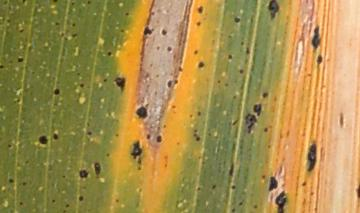tarspot: (305, 142, 318, 173), (309, 24, 322, 52), (274, 190, 289, 213), (243, 112, 258, 134), (134, 101, 150, 121), (130, 138, 144, 160), (266, 1, 280, 21), (113, 75, 127, 94), (92, 160, 103, 181), (267, 175, 279, 192), (252, 101, 263, 118), (337, 109, 345, 131), (142, 25, 155, 38), (37, 133, 49, 146), (78, 169, 89, 180), (196, 59, 206, 71), (228, 161, 235, 178), (315, 53, 323, 66), (52, 86, 61, 97), (159, 27, 168, 38), (195, 4, 204, 15), (260, 90, 270, 99), (232, 16, 241, 25), (77, 194, 86, 203), (355, 182, 360, 198), (155, 134, 163, 144), (51, 131, 59, 141), (176, 64, 184, 74), (231, 117, 239, 127), (237, 198, 245, 208), (166, 78, 172, 91), (237, 67, 245, 76), (7, 176, 15, 185), (85, 130, 94, 138), (229, 183, 237, 192), (195, 185, 204, 193), (136, 186, 145, 194), (166, 44, 173, 54), (226, 52, 233, 62), (135, 156, 142, 166), (210, 182, 217, 192), (260, 173, 267, 183), (16, 56, 24, 64), (6, 142, 14, 150), (104, 151, 112, 159), (13, 97, 21, 105), (195, 110, 204, 117), (169, 103, 178, 110), (113, 197, 120, 206), (17, 27, 26, 34), (244, 46, 251, 55), (70, 32, 79, 39), (308, 189, 315, 198), (225, 33, 234, 40), (228, 207, 238, 213), (192, 48, 199, 56), (106, 50, 113, 58), (17, 199, 24, 207), (50, 197, 58, 204), (112, 131, 120, 138), (194, 135, 201, 143), (20, 180, 28, 187), (123, 11, 131, 18), (262, 126, 269, 134), (101, 77, 109, 84), (300, 180, 308, 187), (145, 133, 151, 142), (252, 202, 258, 211), (305, 72, 314, 78), (29, 70, 38, 76), (144, 71, 150, 80), (162, 122, 167, 132), (78, 82, 85, 89), (136, 165, 143, 172), (215, 78, 222, 85), (223, 81, 230, 88), (231, 93, 238, 100), (64, 36, 71, 43), (173, 77, 179, 85), (191, 127, 199, 133), (118, 28, 126, 34), (69, 1, 77, 7), (53, 21, 61, 27), (75, 70, 81, 78), (59, 30, 65, 38), (155, 44, 161, 52), (154, 72, 160, 80), (266, 142, 271, 151), (195, 20, 201, 27), (64, 202, 70, 209), (239, 40, 245, 47), (70, 22, 77, 28), (188, 113, 194, 120), (175, 140, 181, 147), (59, 174, 67, 179), (162, 162, 167, 170), (150, 10, 155, 18), (206, 132, 212, 138), (6, 18, 12, 24), (2, 1, 8, 6), (20, 1, 27, 5), (86, 1, 91, 6), (1, 64, 5, 70), (304, 1, 309, 4), (51, 1, 58, 3)
